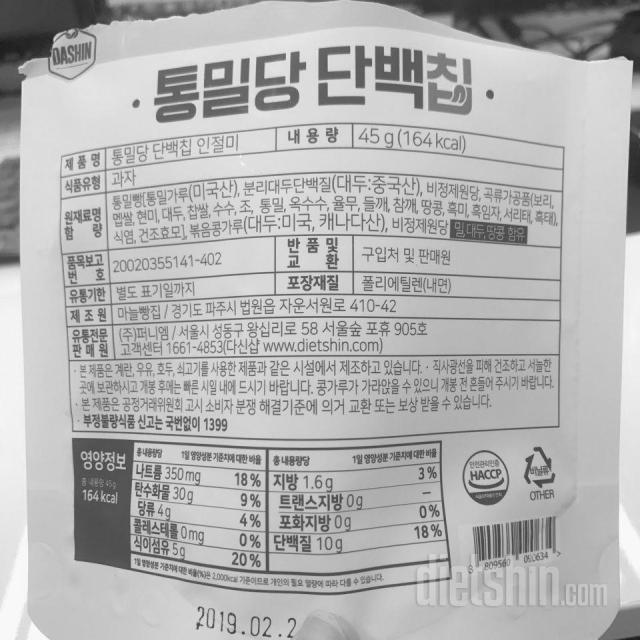Nutrition Label: (64, 438, 454, 593)
